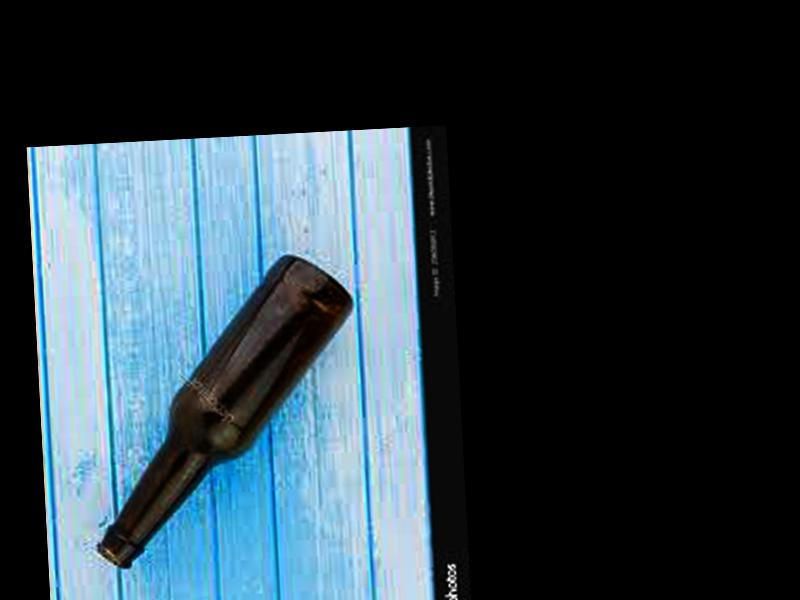Beer: (81, 251, 370, 567)
